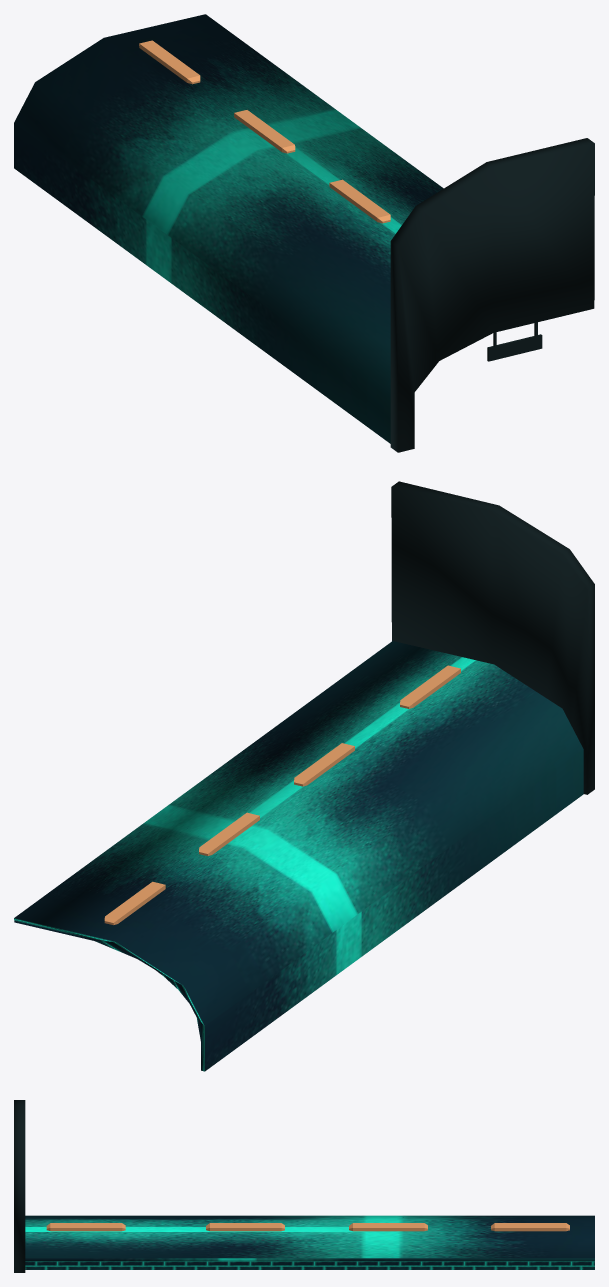
File: tunnel.fbx
3 views of the same model, one above another, from view 1: azimuth 30°, elevation 25°; view 2: azimuth 150°, elevation 25°; view 3: azimuth 270°, elevation 25° (orthographic). The views are drawn at different scales.
Visible parts, largest first — view 1: Cube.001, Cube, Cube.006, Cube.002; view 2: Cube.001, Cube, Cube.006; view 3: Cube.001, Cube.006, Cube.
Part boxes in pixels (left/top/right/bottom): Cube.001: left=14, top=14, right=443, bottom=443; Cube: left=390, top=138, right=594, bottom=452; Cube.006: left=139, top=40, right=390, bottom=223; Cube.002: left=487, top=322, right=542, bottom=361; Cube.001: left=14, top=641, right=583, bottom=1071; Cube: left=391, top=481, right=594, bottom=794; Cube.006: left=104, top=665, right=460, bottom=925; Cube.001: left=25, top=1215, right=594, bottom=1269; Cube.006: left=46, top=1223, right=569, bottom=1231; Cube: left=14, top=1100, right=25, bottom=1272.
Size of the model in its own units: 2999 by 3816 by 10235.
